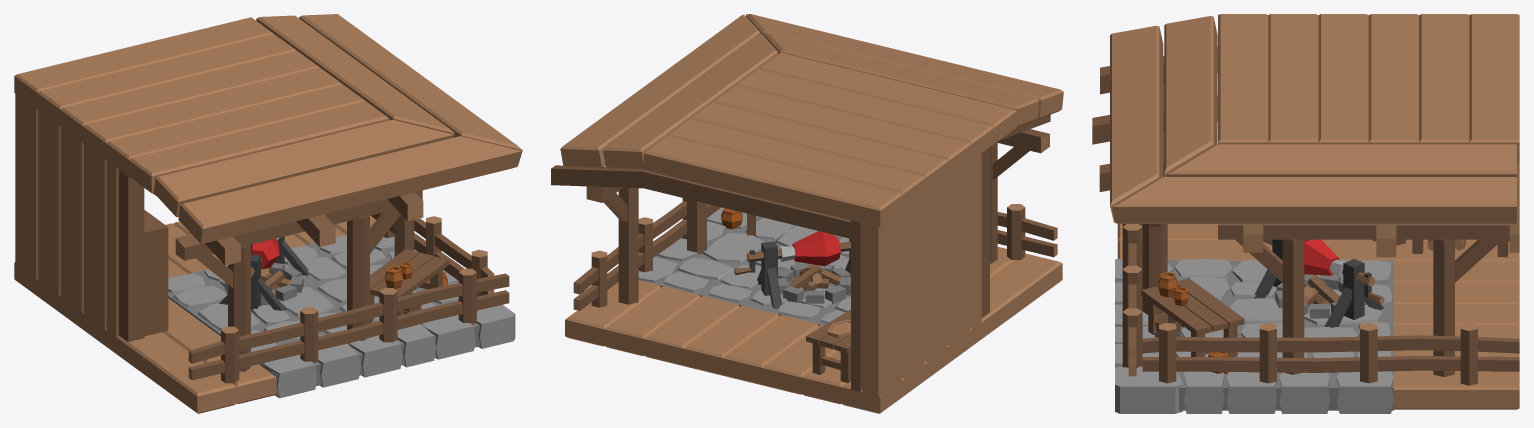
File: Kitchen_Lvl_02_Corner_Left.fbx
3 views of the same model, side by side, from view 1: azimuth 30°, elevation 25°; view 2: azimuth 150°, elevation 25°; view 3: azimuth 270°, elevation 25° (orthographic). The views are drawn at different scales.
Parts seen in each view (by area): view 1: Kitchen_Lvl_02_Corner_Left; view 2: Kitchen_Lvl_02_Corner_Left; view 3: Kitchen_Lvl_02_Corner_Left.
Part boxes in pixels (left/top/right/bottom): Kitchen_Lvl_02_Corner_Left: left=14, top=14, right=522, bottom=413; Kitchen_Lvl_02_Corner_Left: left=551, top=14, right=1063, bottom=413; Kitchen_Lvl_02_Corner_Left: left=1092, top=14, right=1519, bottom=413.
Bounding box in the file's own units: 8.5 × 5.05 × 8.5.
